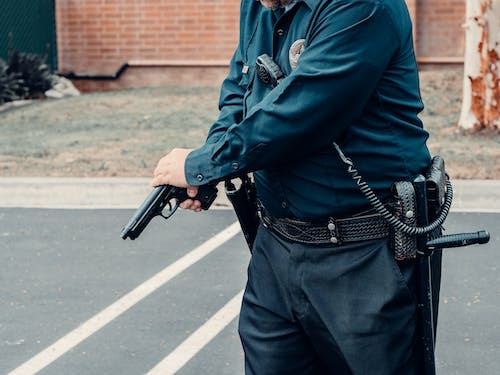gun: (117, 182, 219, 244)
